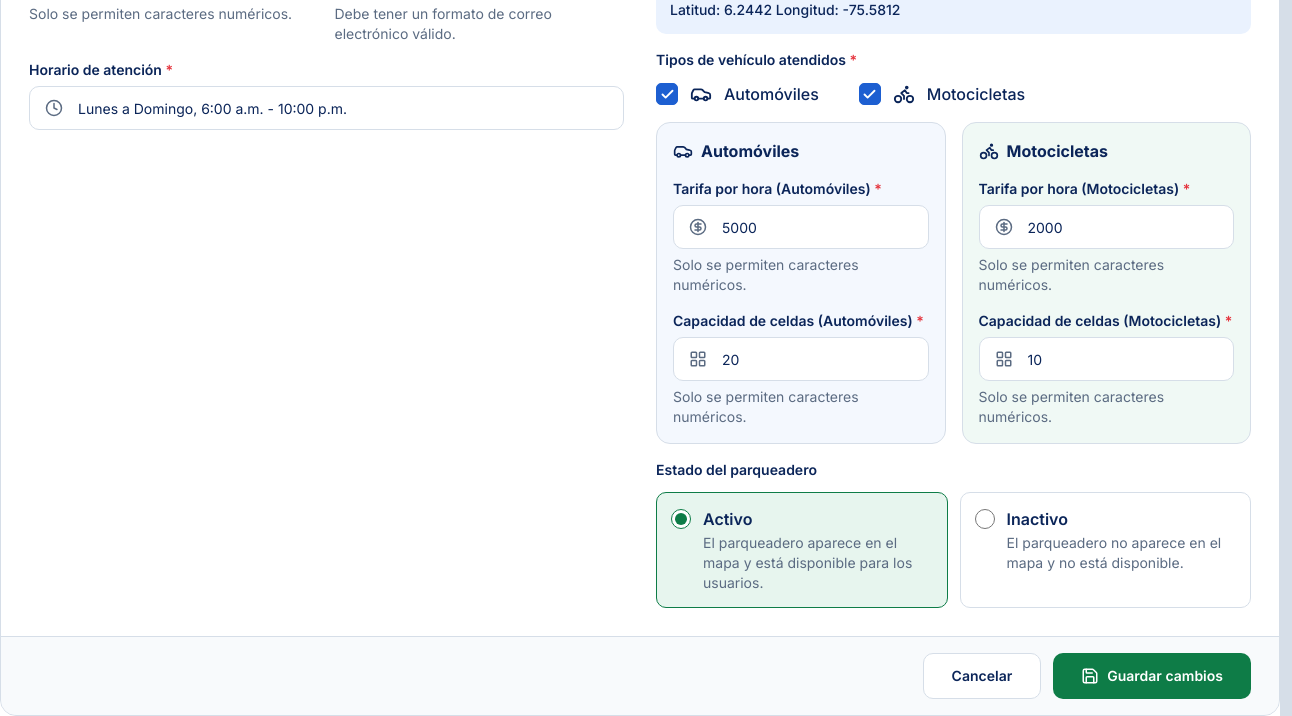
Scenario: EditParking › un error de validación previa muestra el mensaje sin navegar
(page scrolled)
Click the button "Guardar cambios".
click(1152, 676)  # box left=1053, top=653, right=1251, bottom=699
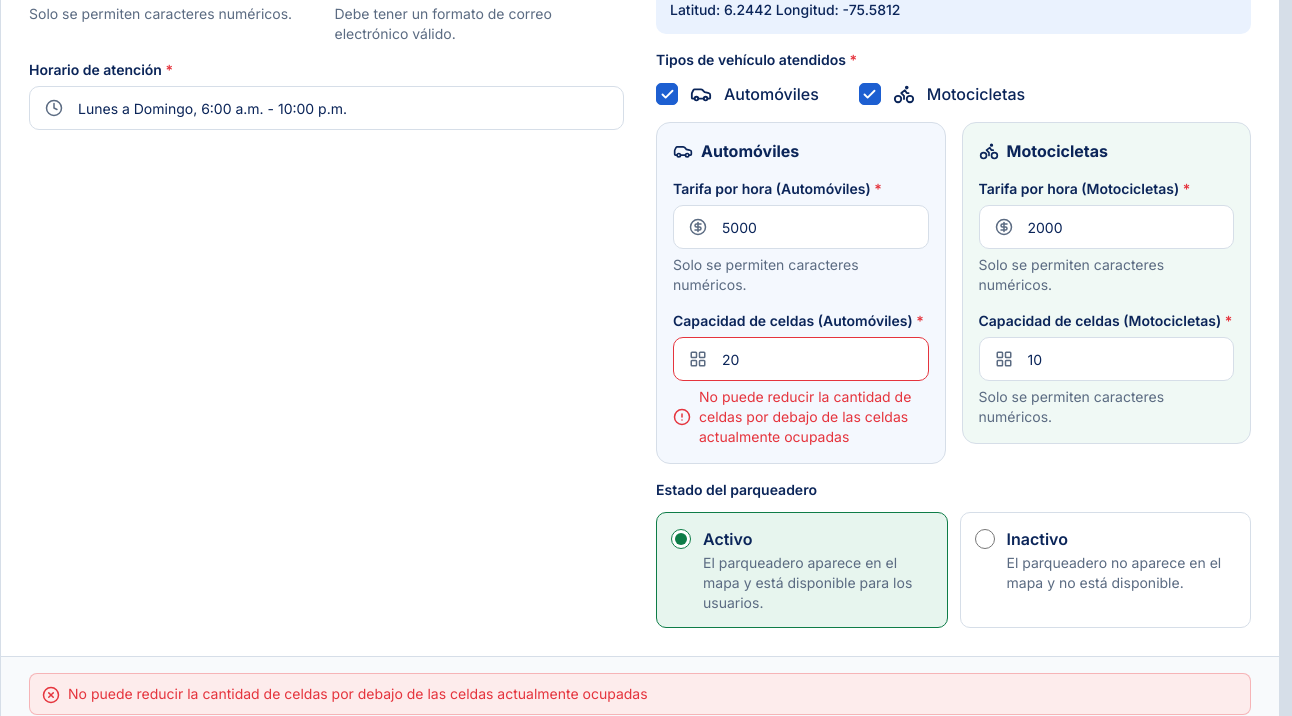
expect the text "No puede reducir la cantidad de celdas por debajo de las celdas actualmente ocupadas" below "Capacidad de celdas (Automóviles)" is shown: met, box left=699, top=388, right=911, bottom=445
